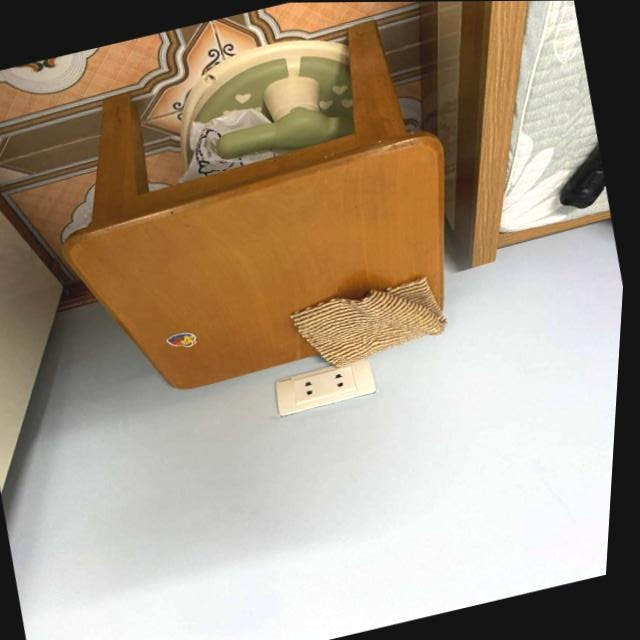outlet: (271, 354, 381, 416)
